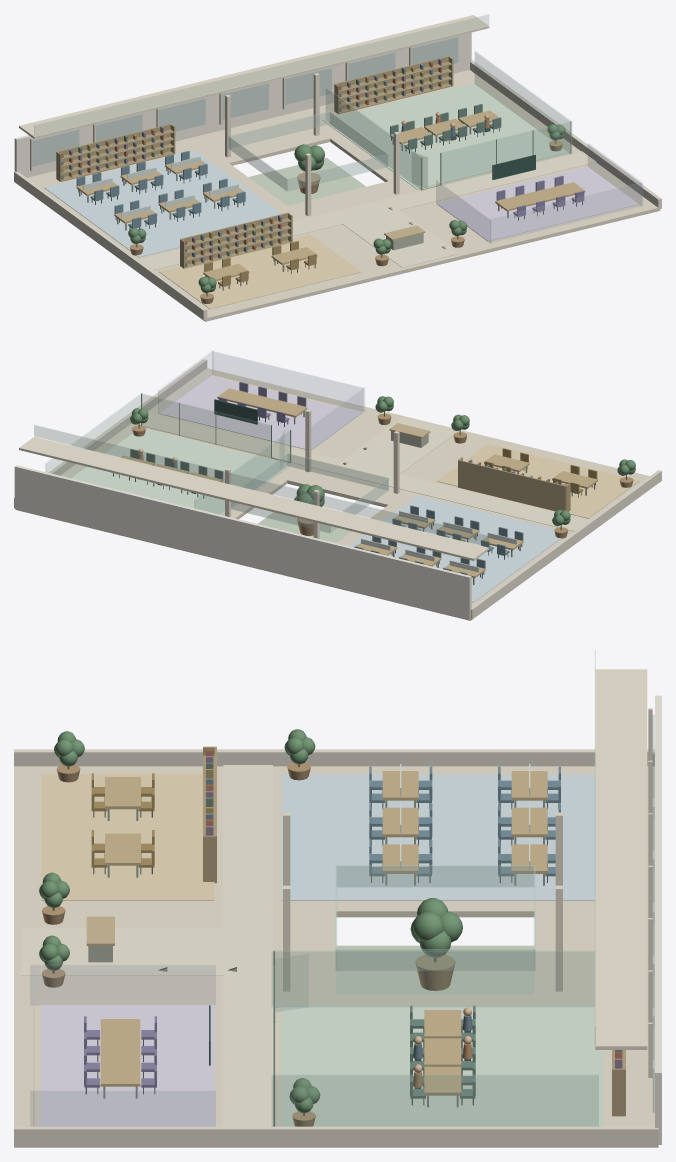
File: 空间研讨配置.glb
The picture shows the model from 3 angles, top to bottom: view 1: azimuth 30°, elevation 25°; view 2: azimuth 150°, elevation 25°; view 3: azimuth 270°, elevation 25°; orthographic projection. The views are drawn at different scales.
Visible parts, largest first — view 1: back_wall, B_green_zone, partition_panel (×3), A_blue_zone, upper_gallery, floor_east, window (×7), booking_glass (×3), D_booking_zone, C_heritage_zone, floor_west, gallery_rail (+12 smaller); view 2: back_wall, partition_panel (×3), upper_gallery, B_green_zone, booking_glass (×3), main_route, A_blue_zone, D_booking_zone, gallery_rail, floor_east, floor_south, floor_west (+10 smaller); view 3: partition_panel (×2), B_green_zone, A_blue_zone, upper_gallery, main_route, D_booking_zone, floor_west, C_heritage_zone, floor_east, oak_worktop (×12), booking_glass (×2), right_cut_wall (+12 smaller).
Boxes of the visible parts, x1,y1,x2,y2 form: back_wall: (14,32,471,177); B_green_zone: (322,83,568,189); partition_panel (×3): (326,51,571,190); A_blue_zone: (44,150,281,257); upper_gallery: (19,15,489,138); floor_east: (295,70,660,253); window (×7): (32,36,458,166); booking_glass (×3): (436,143,642,243); D_booking_zone: (437,166,639,241); C_heritage_zone: (159,234,361,309); floor_west: (27,137,382,321); gallery_rail: (34,14,488,136); back_wall: (14,465,471,619); partition_panel (×3): (45,393,291,514); upper_gallery: (19,436,489,560); B_green_zone: (70,429,290,515); booking_glass (×3): (158,350,364,449); main_route: (131,413,588,531); A_blue_zone: (349,495,568,602); D_booking_zone: (159,376,361,449); gallery_rail: (34,425,488,546); floor_east: (15,368,379,552); floor_south: (287,411,482,507); floor_west: (293,435,649,620); partition_panel (×2): (272,951,598,1126); B_green_zone: (281,1004,603,1126); A_blue_zone: (281,774,595,900); upper_gallery: (595,669,647,1049); main_route: (223,765,272,1126); D_booking_zone: (41,1004,214,1126); floor_west: (14,766,654,917); C_heritage_zone: (41,774,214,900); floor_east: (14,995,658,1147); oak_worktop (×12): (100,771,547,1095); booking_glass (×2): (30,964,215,1126); right_cut_wall: (14,1126,658,1146).
Size of the model in its own units: 36.28 by 6.7 by 26.14.
